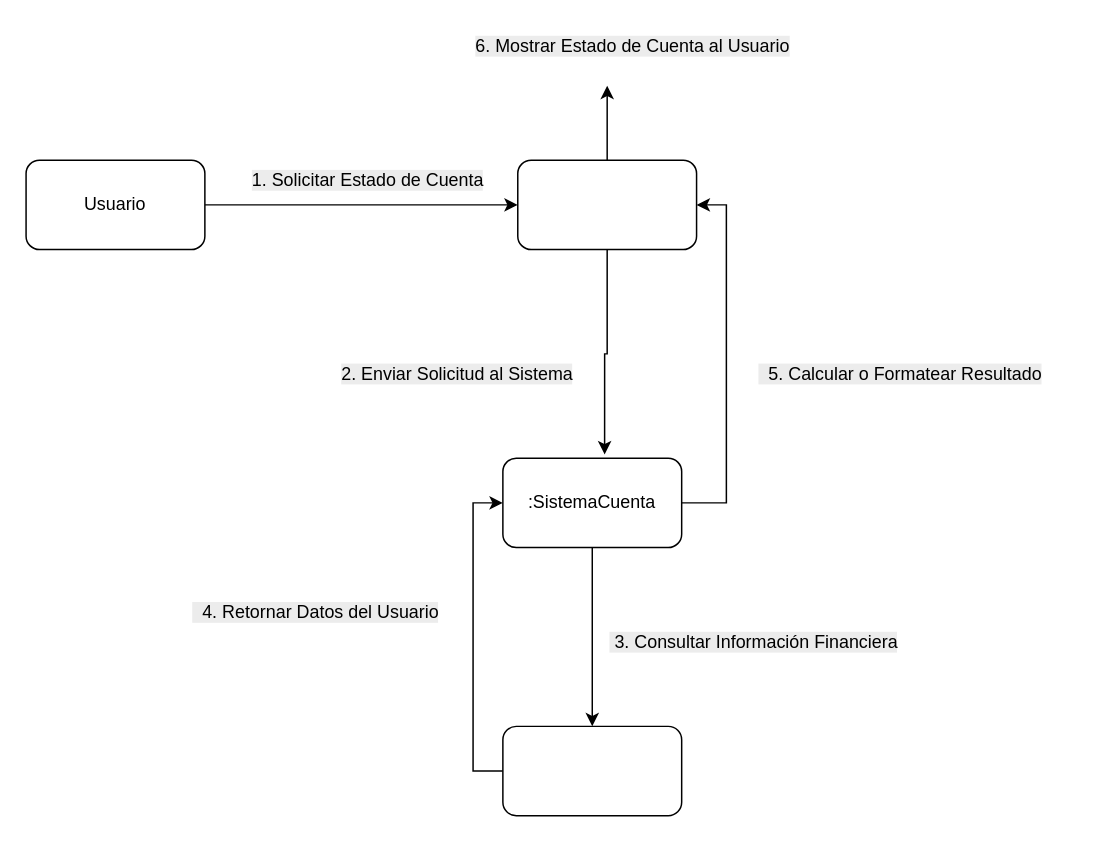
Image size: 1110x842. Some labels were removed from this diagram. Here are the shapes that lost their labels. From the top down, the centre of each, then its label:
At (606,204): ":UI_EstadoCuenta".
At (591,770): ":BD_Cuentas".
